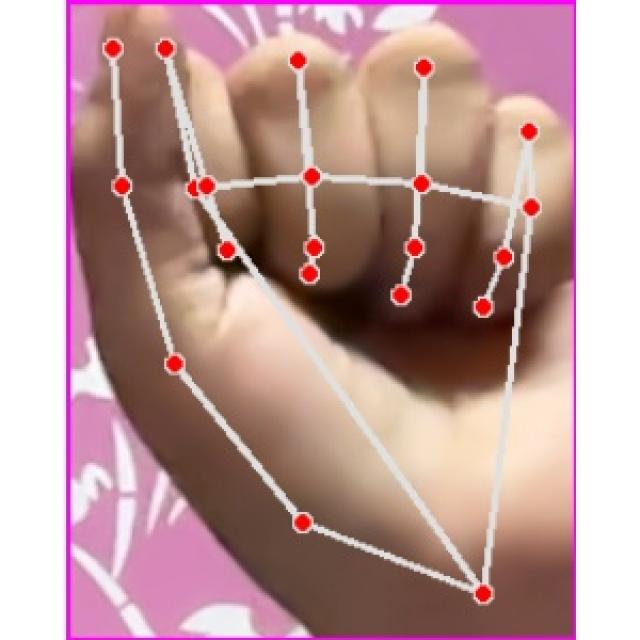A: (72, 1, 578, 640)
